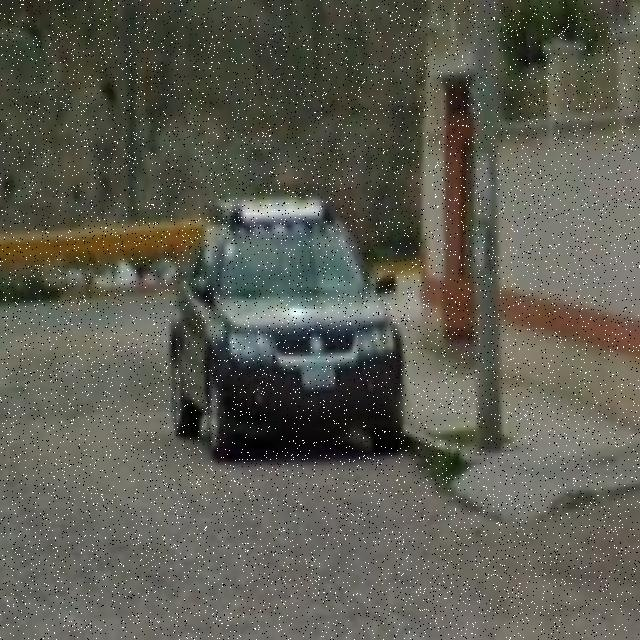cars: (165, 204, 415, 465)
